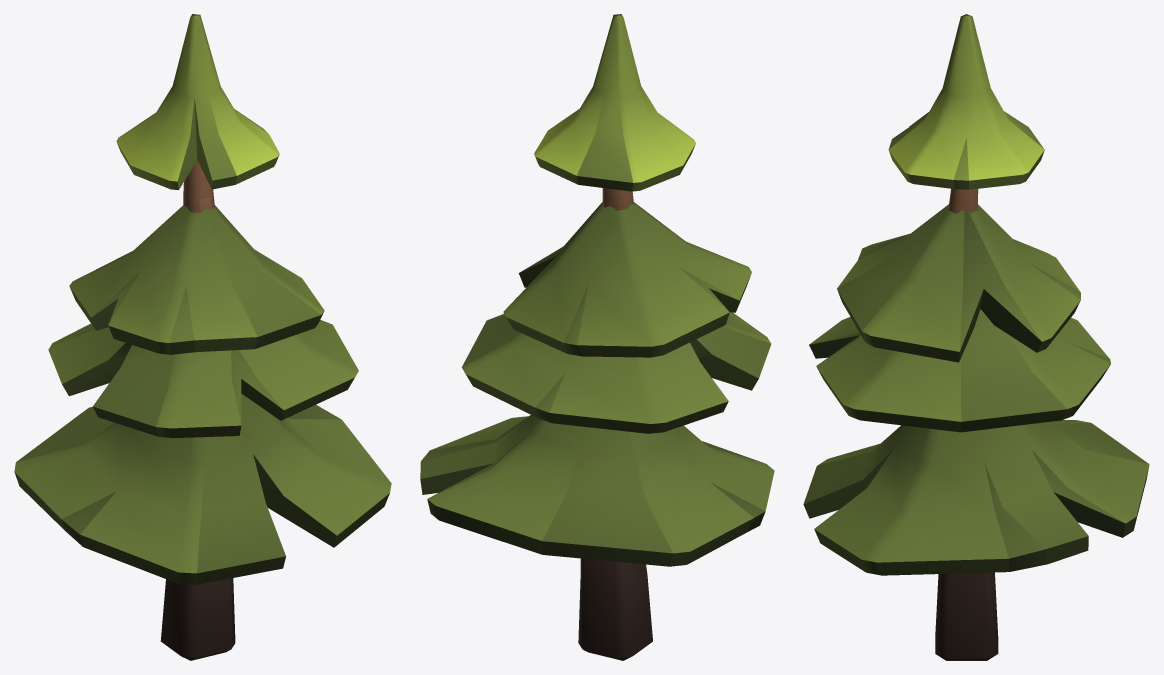
Rendered from pine_tree_col1_08.fbx.
3 renders of one model, left to right at view 1: azimuth 30°, elevation 25°; view 2: azimuth 150°, elevation 25°; view 3: azimuth 270°, elevation 25°, orthographic.
Visible parts, largest first — view 1: pine_tree_col1_08; view 2: pine_tree_col1_08; view 3: pine_tree_col1_08.
Boxes of the visible parts, x1,y1,x2,y2 form: pine_tree_col1_08: (14, 14, 391, 660); pine_tree_col1_08: (420, 14, 774, 660); pine_tree_col1_08: (803, 14, 1149, 660).
Bounding box in the file's own units: 424 × 850 × 420.
1 material, 1 textured.
